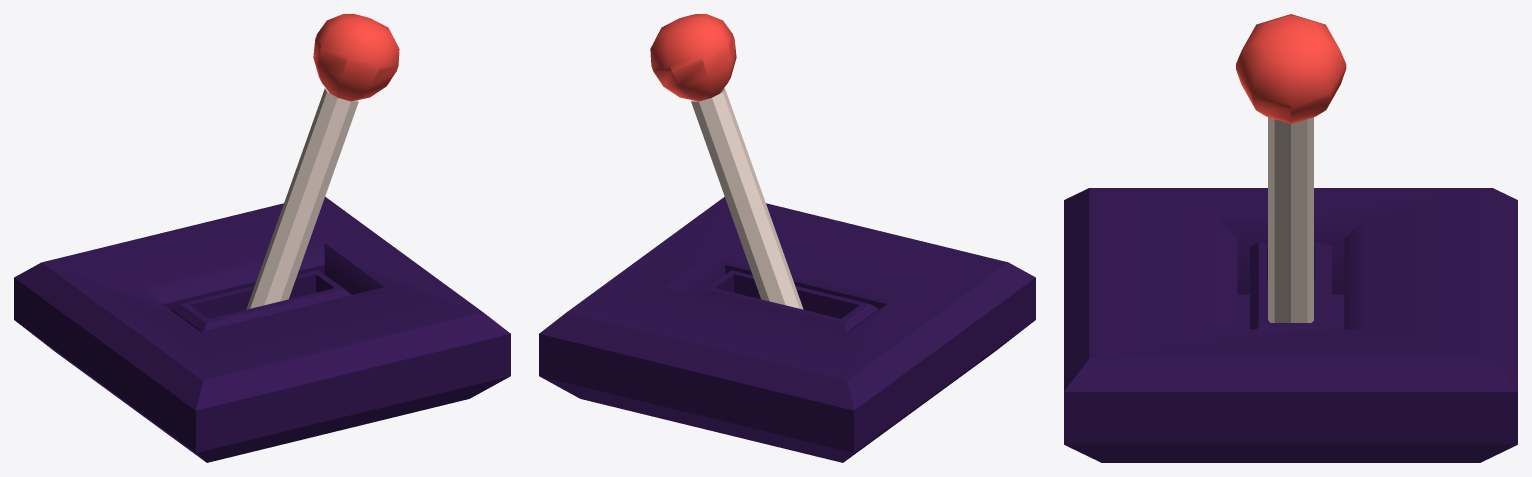
File: yaogan_1.fbx
3 views of the same model, side by side, from view 1: azimuth 30°, elevation 25°; view 2: azimuth 150°, elevation 25°; view 3: azimuth 270°, elevation 25° (orthographic). The views are drawn at different scales.
Visible parts, largest first — view 1: 柱体; view 2: 柱体; view 3: 柱体.
Boxes of the visible parts, x1,y1,x2,y2 form: 柱体: (14, 14, 510, 462); 柱体: (539, 14, 1035, 462); 柱体: (1064, 14, 1517, 462).
Size of the model in its own units: 100 by 102 by 100.
